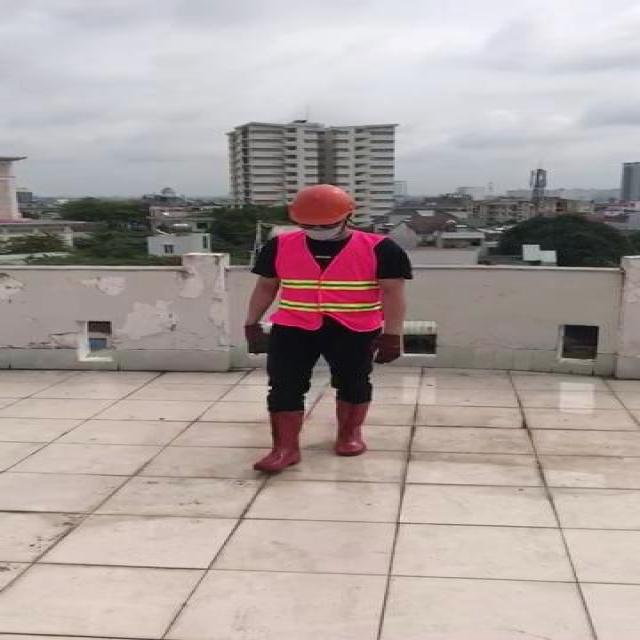boots: (256, 410, 309, 475), (333, 397, 375, 456)
face_mask: (300, 218, 342, 242)
glasses: (292, 218, 346, 232)
hand_glove: (369, 335, 404, 365), (245, 321, 263, 353)
head_helmet: (287, 184, 358, 226)
person: (231, 182, 418, 478)
vest: (272, 232, 386, 330)
